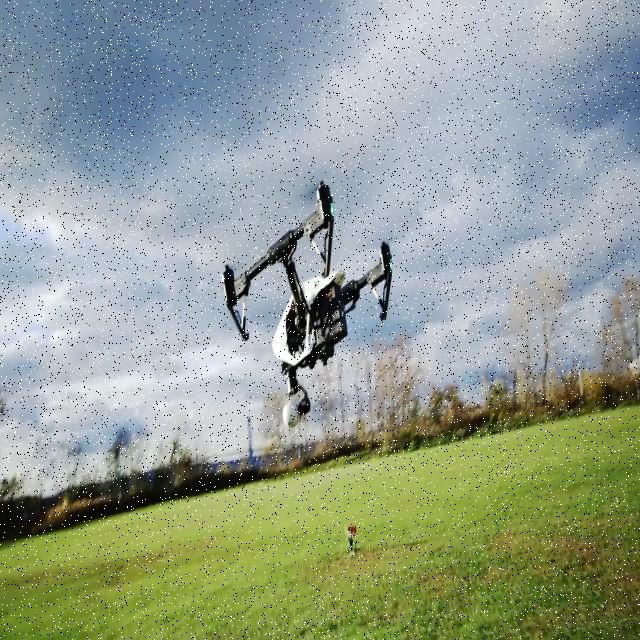UAV: (220, 178, 394, 428)
